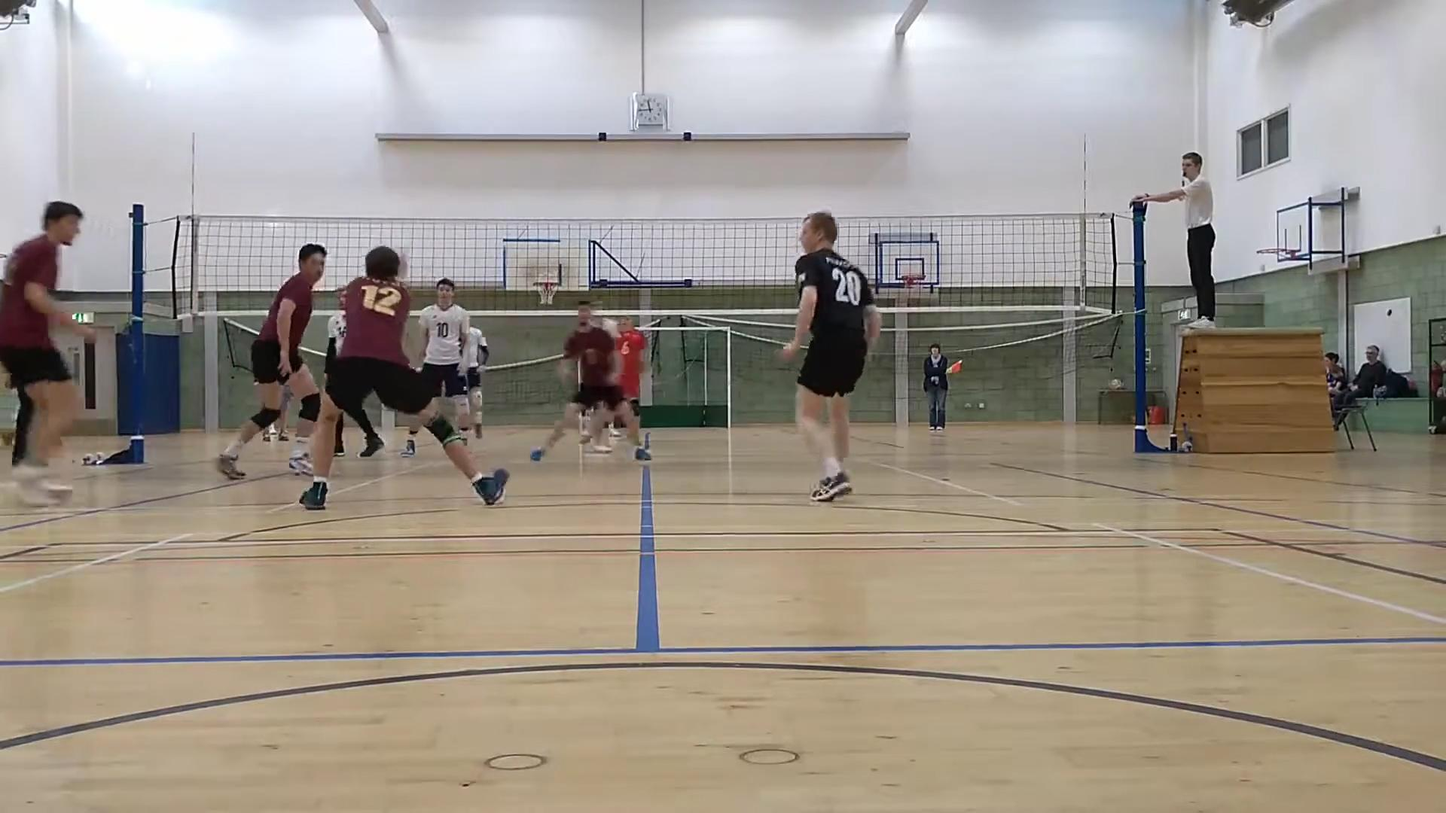ricezione: (298, 249, 511, 506)
